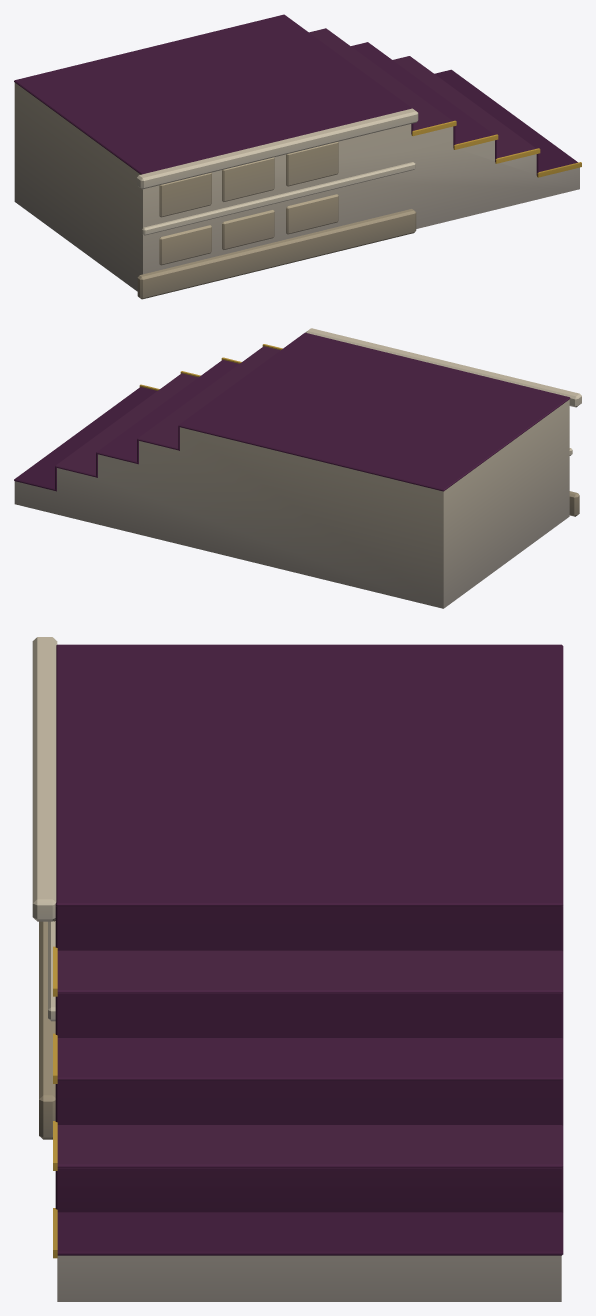
File: throne_dais.glb
3 views of the same model, one above another, from view 1: azimuth 30°, elevation 25°; view 2: azimuth 150°, elevation 25°; view 3: azimuth 270°, elevation 25° (orthographic). The views are drawn at different scales.
Parts seen in each view (by area): view 1: throne_dais; view 2: throne_dais; view 3: throne_dais.
Boxes of the visible parts, x1,y1,x2,y2 form: throne_dais: (14, 14, 581, 299); throne_dais: (14, 328, 581, 608); throne_dais: (32, 637, 563, 1301).
Size of the model in its own units: 6.61 by 1.74 by 3.47.
